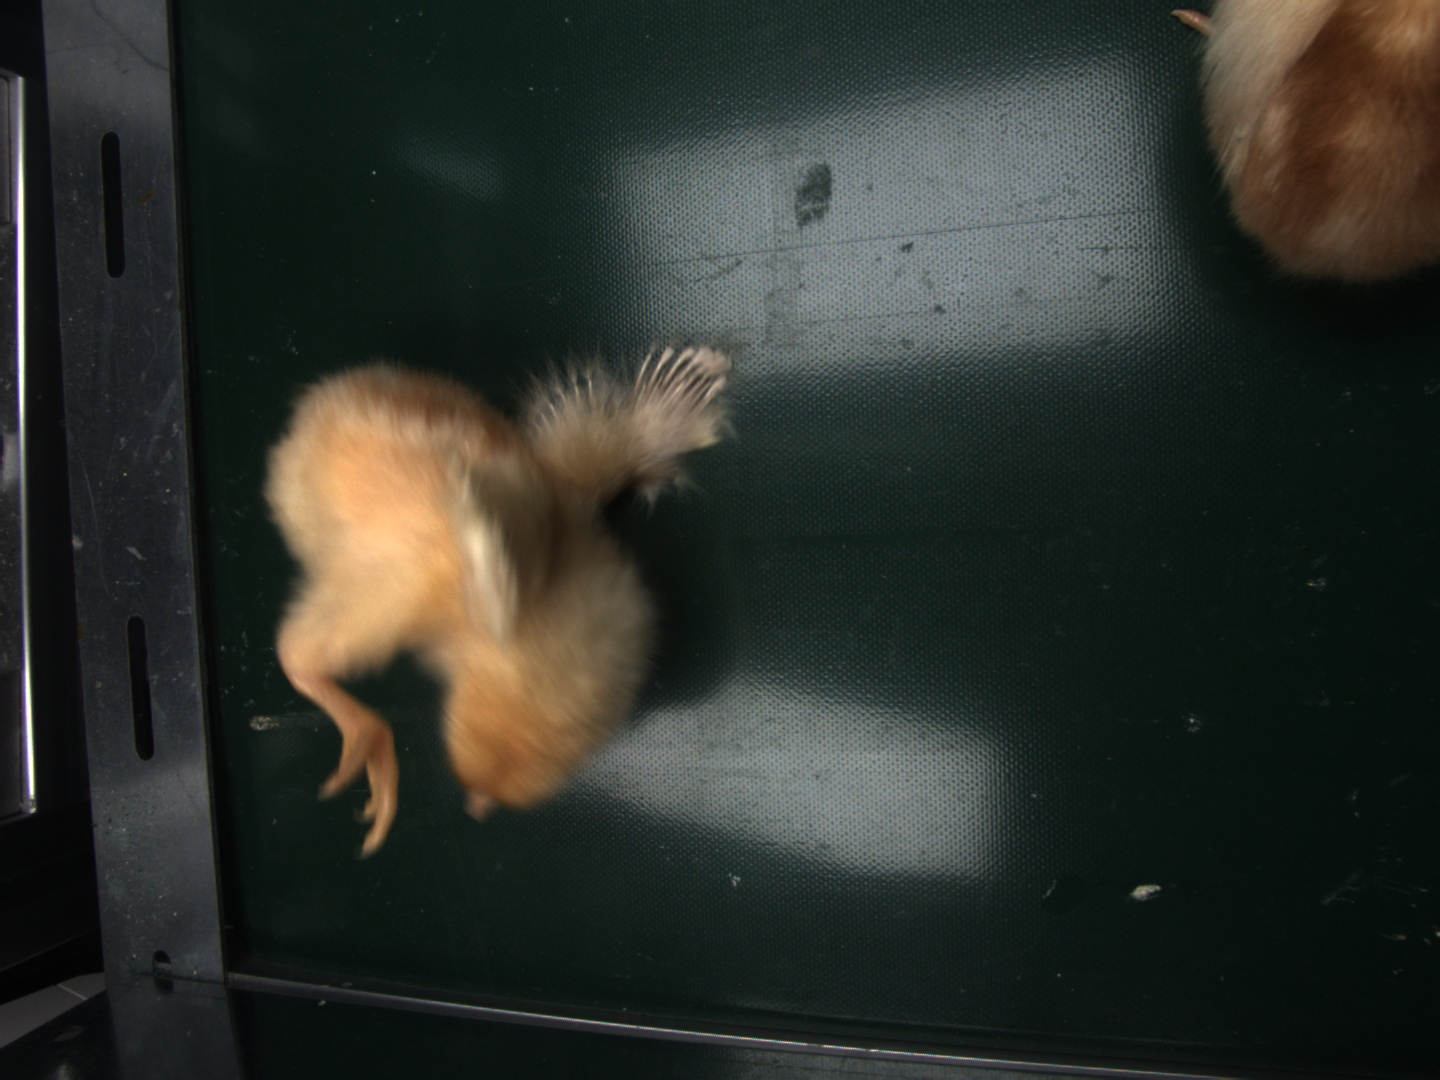female: (637, 360, 722, 408)
